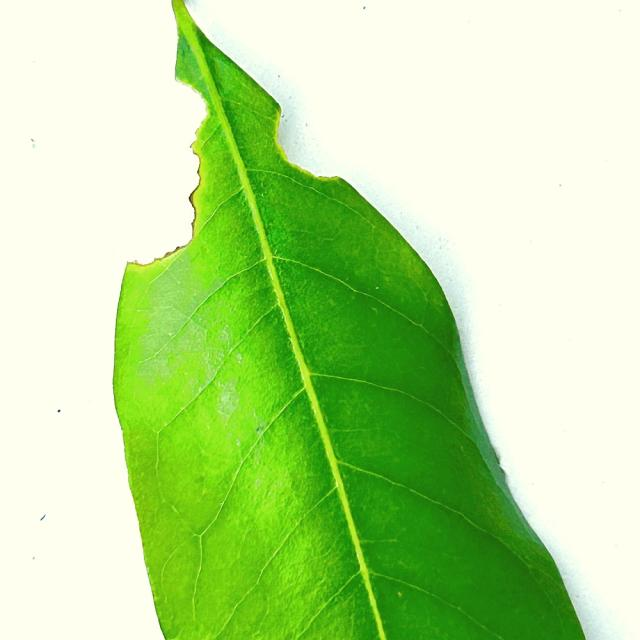Deficiency Leaf: (104, 77, 203, 264), (277, 95, 342, 177)
Lychee: (111, 0, 587, 639)
